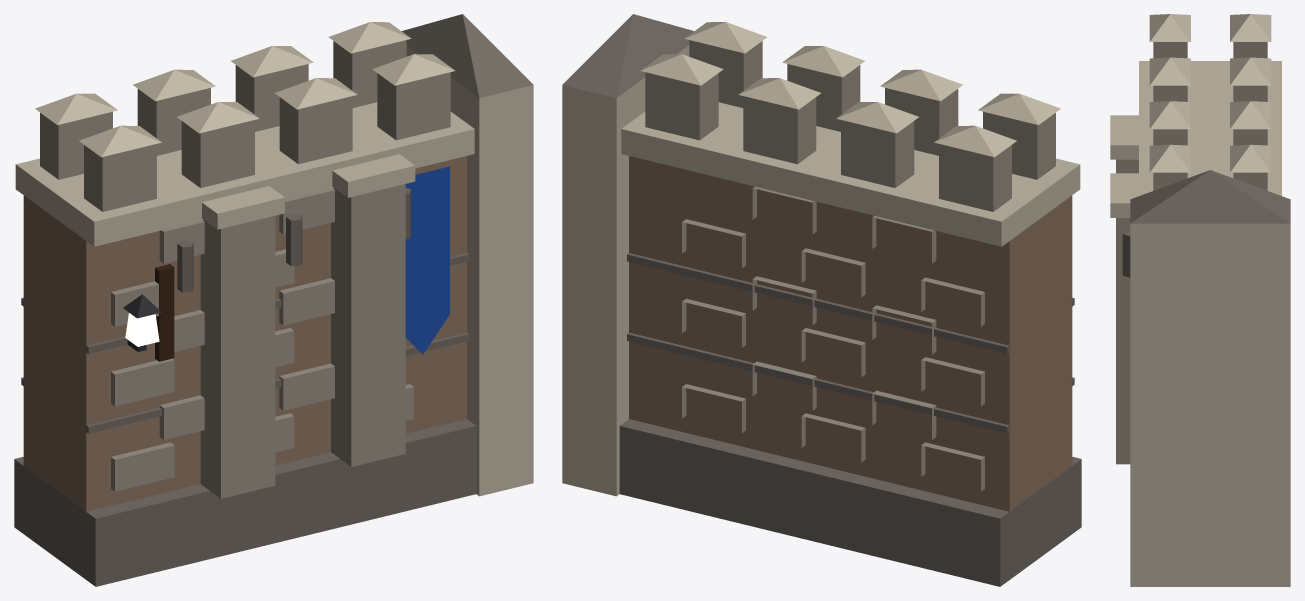
The model's file is wall_straight.fbx.
3 renders of one model, left to right at view 1: azimuth 30°, elevation 25°; view 2: azimuth 150°, elevation 25°; view 3: azimuth 270°, elevation 25°, orthographic. The views are drawn at different scales.
Parts seen in each view (by area): view 1: wall_straight; view 2: wall_straight; view 3: wall_straight.
Part boxes in pixels (x1=…): wall_straight: x1=14, y1=14, x2=533, y2=586; wall_straight: x1=562, y1=14, x2=1081, y2=586; wall_straight: x1=1110, y1=14, x2=1290, y2=586.
Size of the model in its own units: 4 by 3.9 by 1.57.
